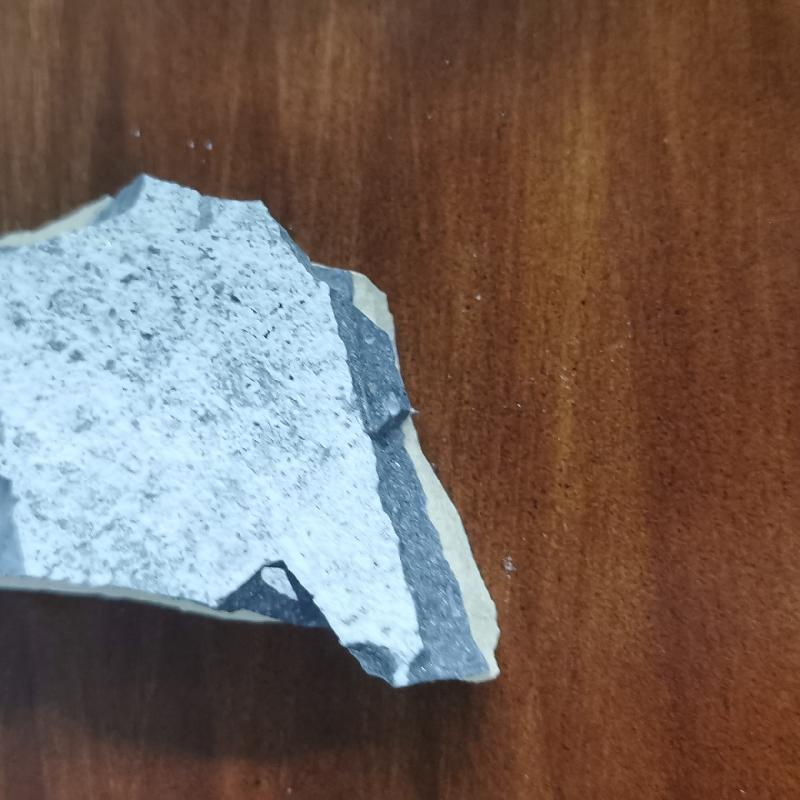tile: (0, 175, 524, 711)
